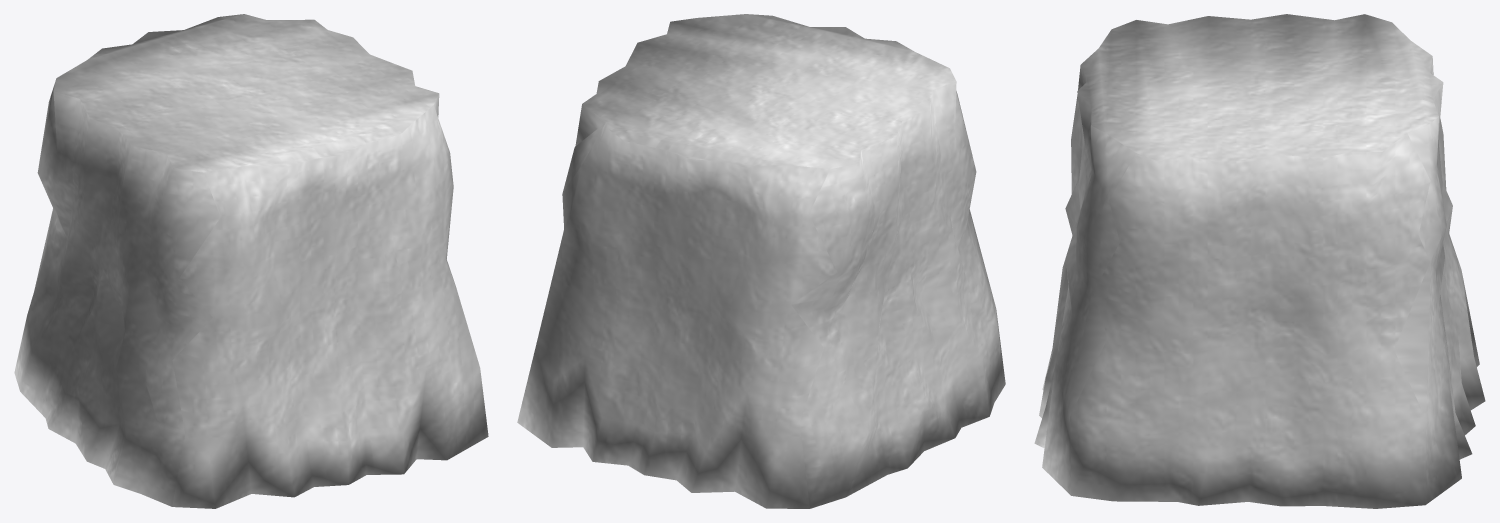
File: Iceberg.obj
3 renders of one model, left to right at view 1: azimuth 30°, elevation 25°; view 2: azimuth 150°, elevation 25°; view 3: azimuth 270°, elevation 25°, orthographic. The views are drawn at different scales.
Visible parts, largest first — view 1: Cube_Cube.005; view 2: Cube_Cube.005; view 3: Cube_Cube.005.
Part boxes in pixels (<box>): Cube_Cube.005: <box>14,14,488,508</box>; Cube_Cube.005: <box>517,14,1005,508</box>; Cube_Cube.005: <box>1034,14,1485,508</box>.
Size of the model in its own units: 2.37 by 2.01 by 2.48.
